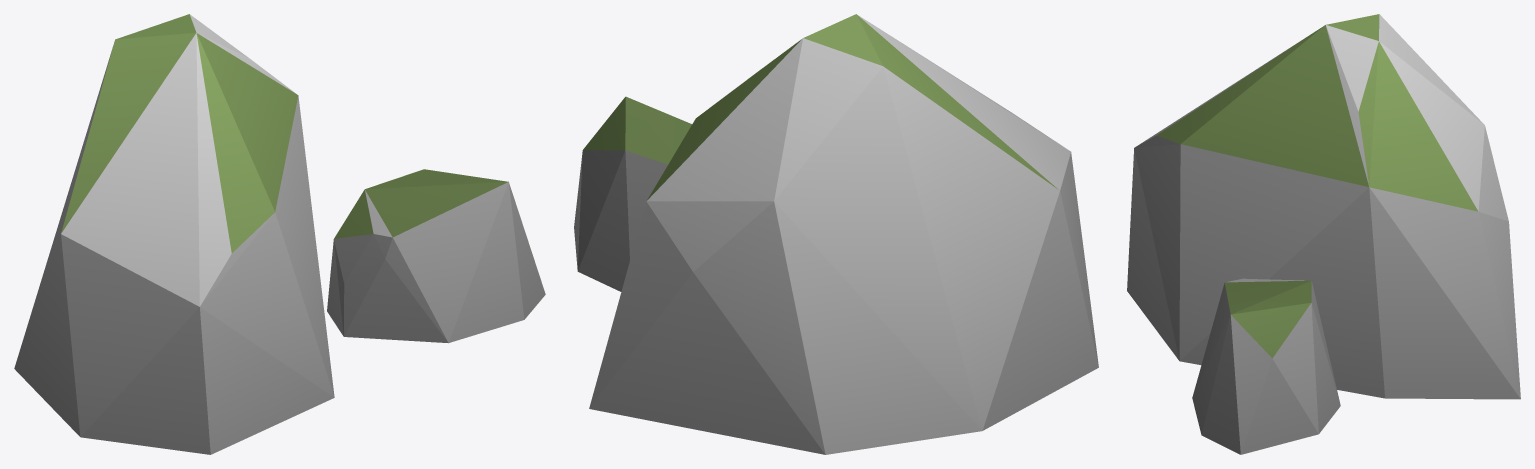
Rendered from rk_boulder_2.glb.
The picture shows the model from 3 angles, left to right: view 1: azimuth 30°, elevation 25°; view 2: azimuth 150°, elevation 25°; view 3: azimuth 270°, elevation 25°; orthographic projection. The views are drawn at different scales.
Visible parts, largest first — view 1: rk_boulder_2; view 2: rk_boulder_2; view 3: rk_boulder_2.
Part boxes in pixels (x1,y1,x2,y2): rk_boulder_2: (14,14,545,454); rk_boulder_2: (574,14,1098,454); rk_boulder_2: (1127,14,1520,454).
Size of the model in its own units: 25.56 by 16.67 by 19.32.
